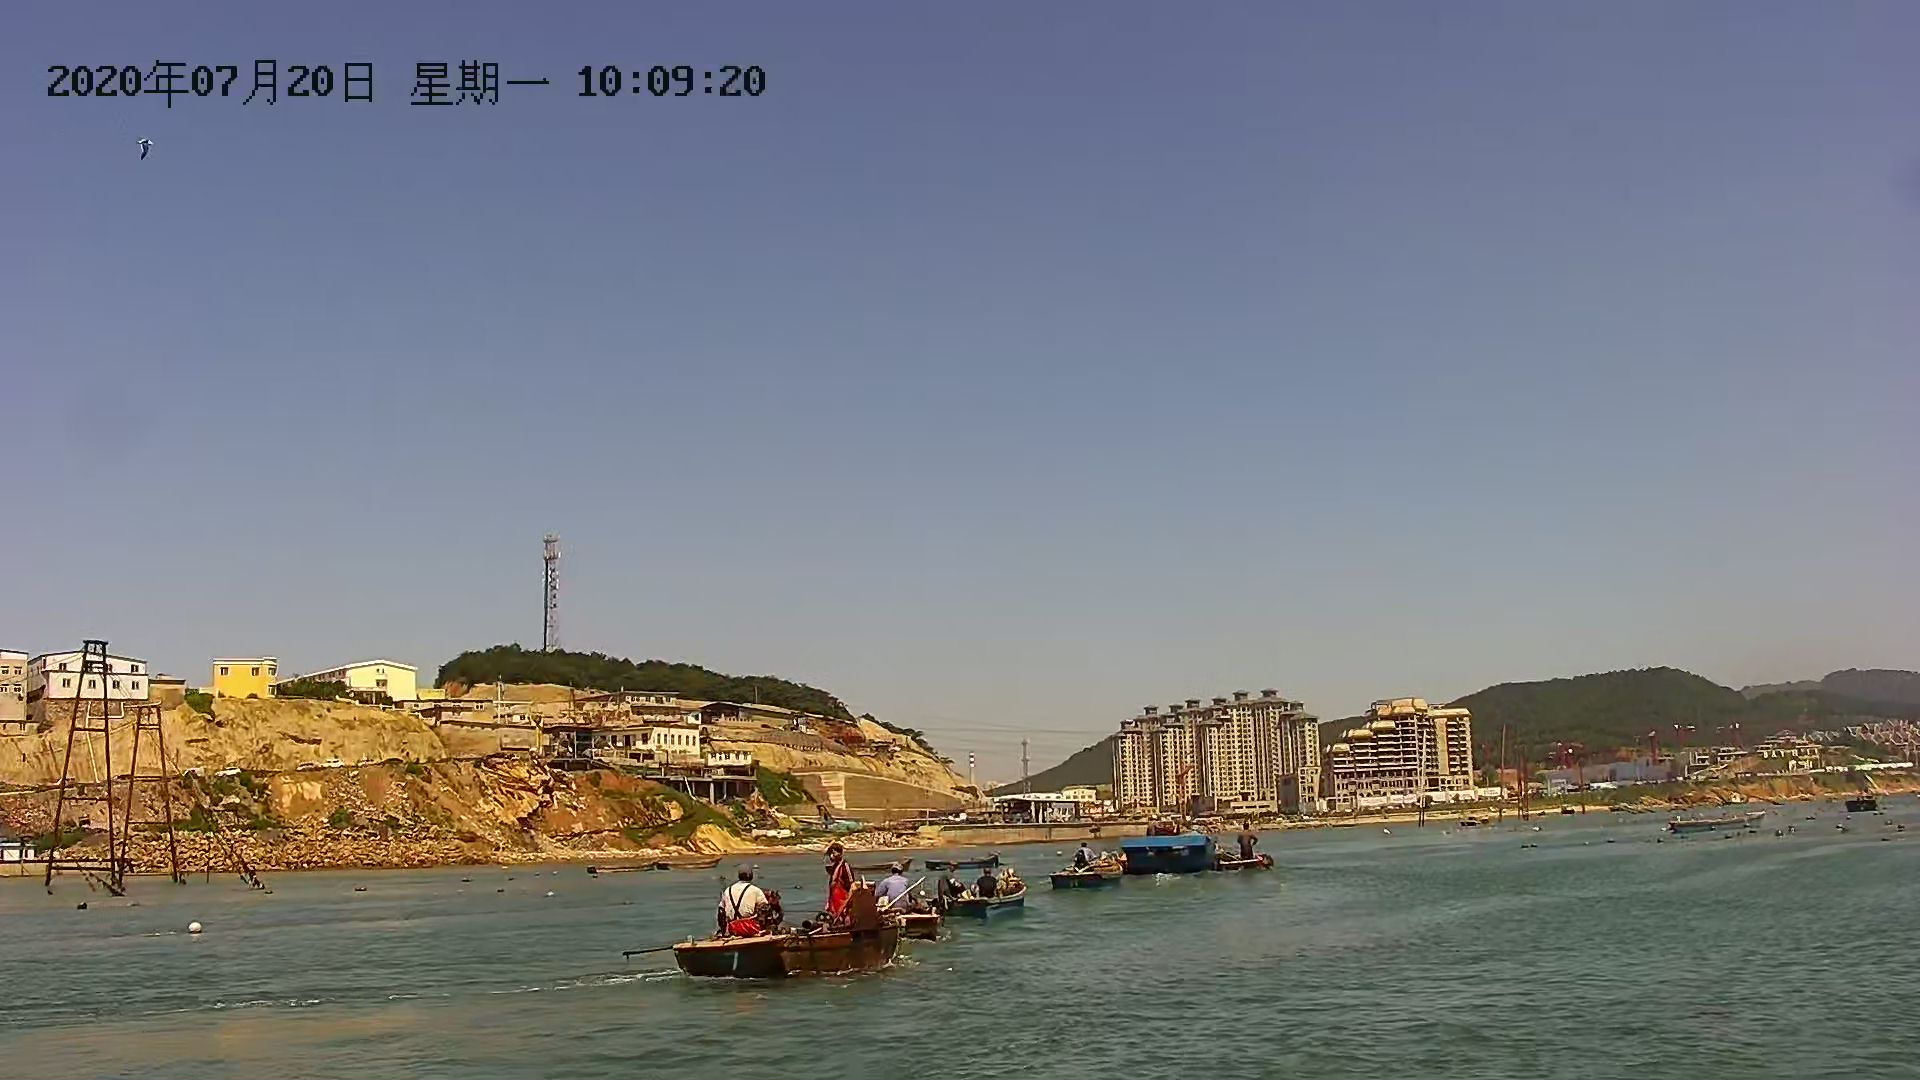boat: (679, 908, 914, 988), (938, 888, 1035, 917), (1659, 810, 1770, 832), (885, 901, 948, 939), (1053, 862, 1142, 889), (1231, 856, 1281, 869), (1846, 799, 1881, 808)
mast: (50, 638, 122, 899), (116, 701, 183, 895)
person: (718, 860, 766, 936), (824, 836, 859, 934), (879, 852, 914, 923), (938, 860, 961, 902), (1237, 819, 1259, 860), (1072, 836, 1094, 875), (977, 864, 996, 895)
platform: (1127, 830, 1224, 873)
